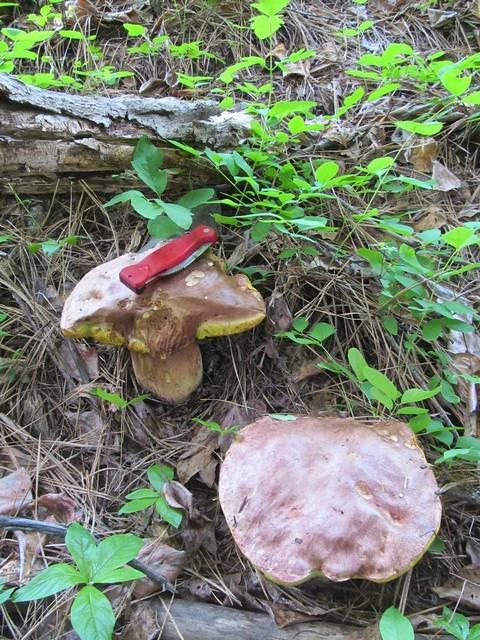Edible Mushroom: (216, 413, 443, 588), (59, 223, 266, 405)
